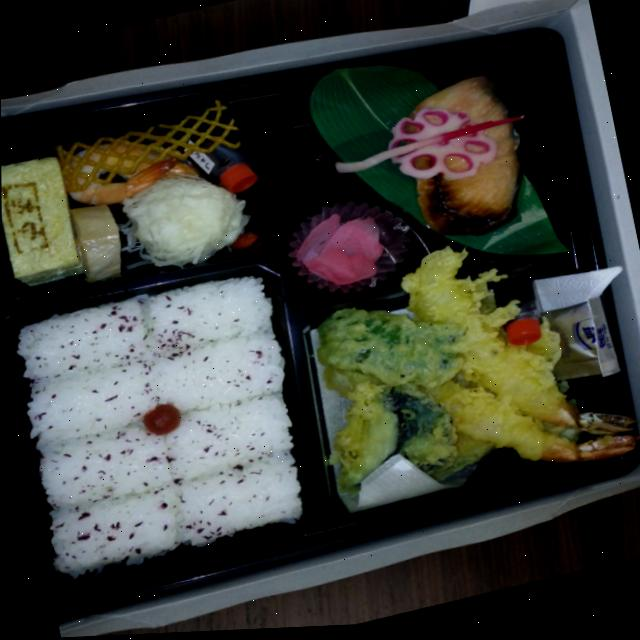熟制海鲜: (383, 51, 541, 262)
米饭主食: (7, 258, 315, 585)
蔬菜料理: (282, 198, 640, 538), (109, 146, 268, 295)
